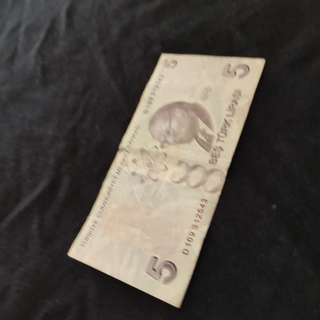5TLBack: (66, 50, 266, 310)
